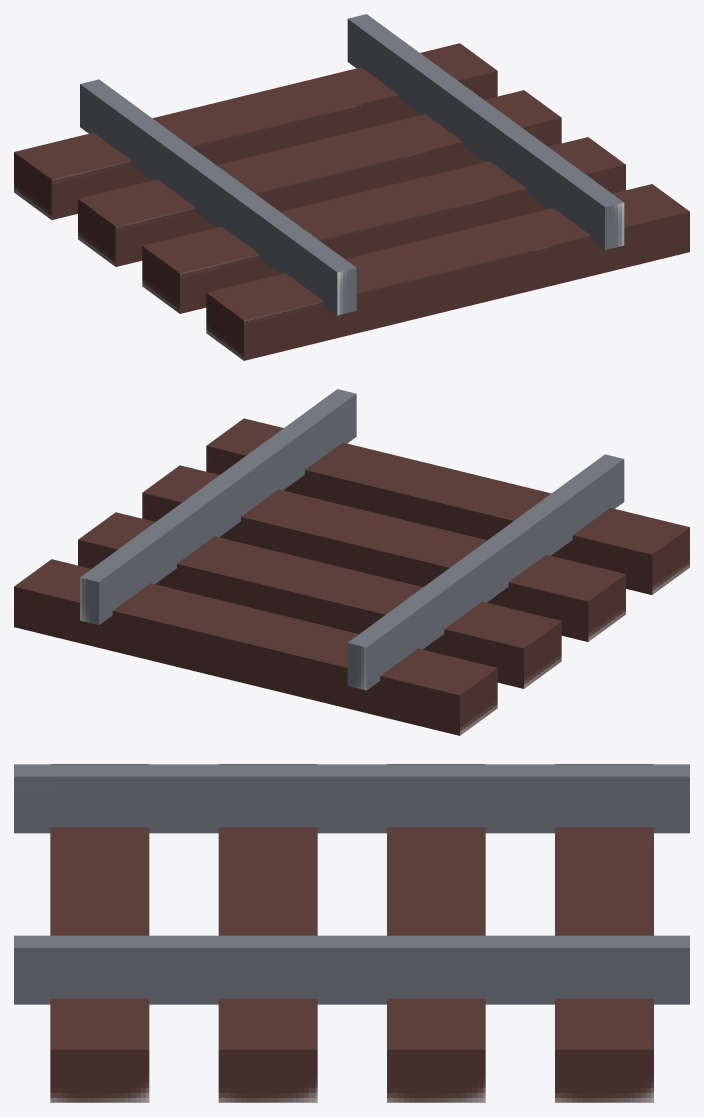
File: strait-track.blend.glb
3 renders of one model, top to bottom at view 1: azimuth 30°, elevation 25°; view 2: azimuth 150°, elevation 25°; view 3: azimuth 270°, elevation 25°, orthographic. The views are drawn at different scales.
Parts seen in each view (by area): view 1: strait; view 2: strait; view 3: strait.
Boxes of the visible parts, <box> form: strait: <box>14,14,689,360</box>; strait: <box>14,389,689,735</box>; strait: <box>14,764,689,1102</box>.
Size of the model in its own units: 2 by 0.3391 by 2.
Materials: 1 (1 with a texture image).
